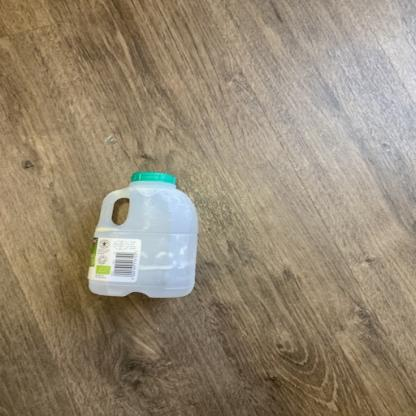trash: (84, 170, 204, 300)
